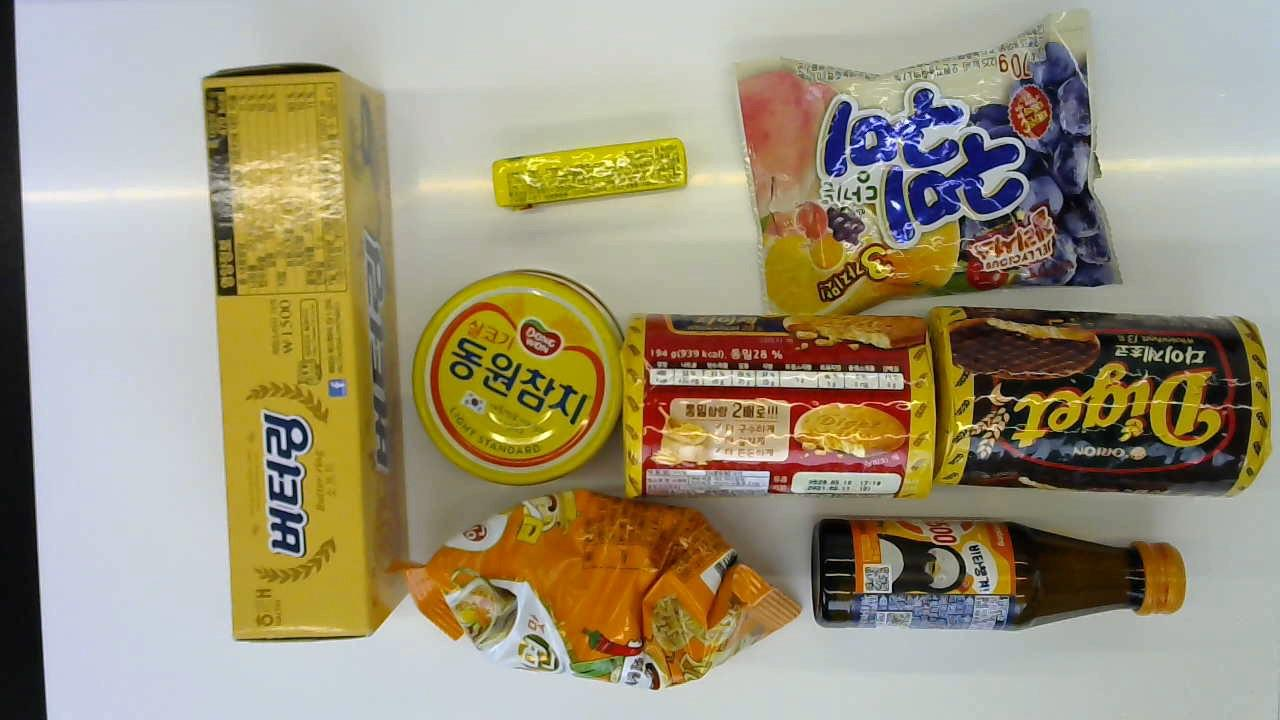buttering: (196, 63, 404, 640)
diget_choco: (933, 304, 1269, 498)
diget_ori: (625, 316, 934, 500)
gumi_gumi: (725, 8, 1120, 308)
jjolbyung_noodle: (408, 491, 798, 688)
juicyfresh: (489, 136, 685, 212)
tuna: (409, 269, 624, 482)
vita500: (812, 520, 1185, 625)
